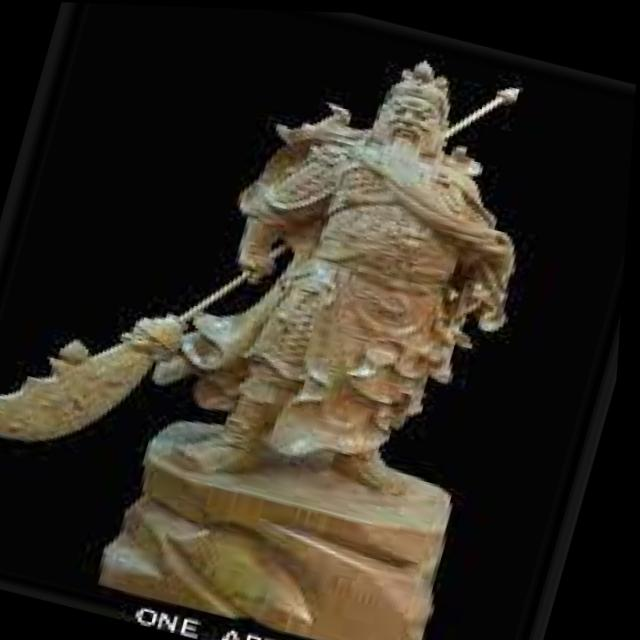Guan Yu: (180, 19, 545, 489)
